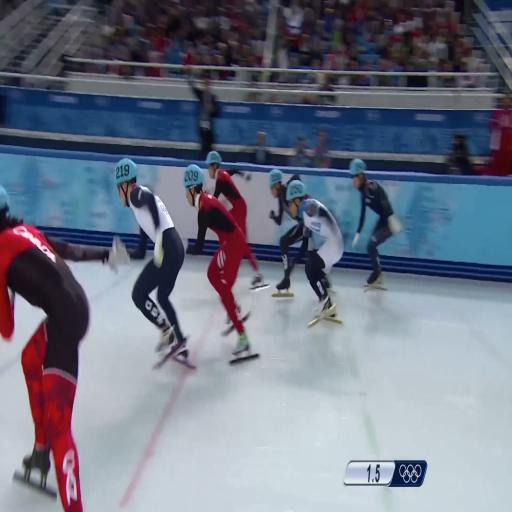Skater: (0, 187, 120, 511), (116, 159, 193, 367), (184, 165, 258, 363), (287, 181, 343, 327), (350, 159, 401, 289), (206, 152, 250, 237), (273, 219, 303, 297)
